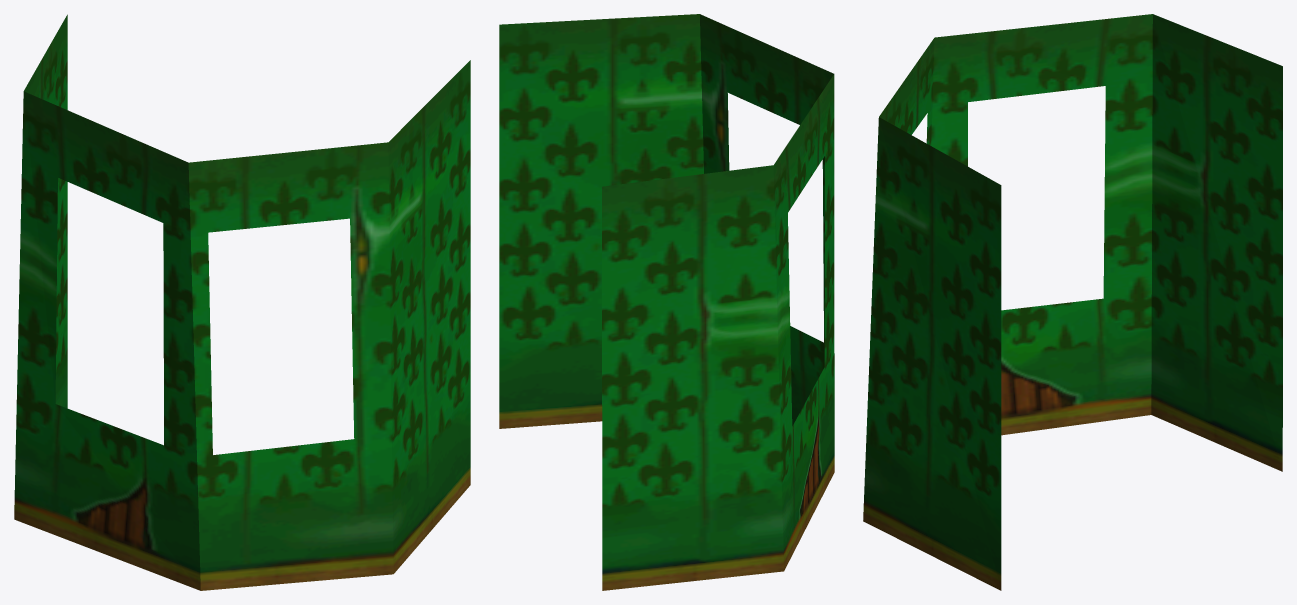
Rendered from W_AI_Erker_xffx_2311.glb.
3 views of the same model, side by side, from view 1: azimuth 30°, elevation 25°; view 2: azimuth 150°, elevation 25°; view 3: azimuth 270°, elevation 25° (orthographic). The views are drawn at different scales.
Visible parts, largest first — view 1: pPlaneShape2; view 2: pPlaneShape2; view 3: pPlaneShape2.
Part boxes in pixels (box(x1,y1,x2,y2)): pPlaneShape2: box(14, 14, 470, 590); pPlaneShape2: box(499, 14, 834, 590); pPlaneShape2: box(863, 14, 1282, 590).
Size of the model in its own units: 0.3243 by 0.3486 by 0.3268.
Materials: 1 (1 with a texture image).
